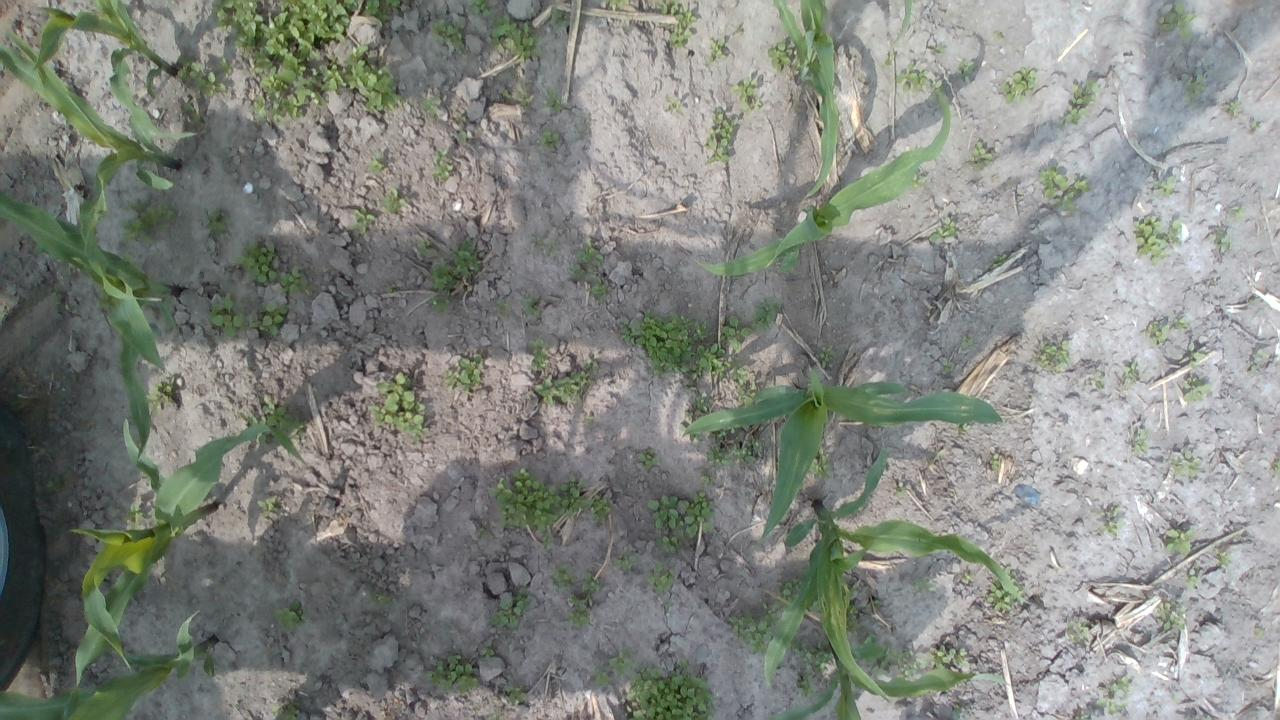Maize: (762, 446, 1019, 690), (72, 424, 303, 690), (682, 364, 1008, 538), (0, 189, 186, 466), (0, 30, 183, 304), (699, 85, 952, 277), (0, 609, 218, 720), (31, 0, 198, 143), (770, 631, 999, 720), (773, 0, 840, 205), (890, 0, 912, 41)
Weeds: (252, 0, 351, 126), (620, 306, 708, 391), (488, 466, 561, 550), (627, 659, 713, 720), (646, 489, 718, 555), (366, 372, 425, 443), (346, 45, 398, 114), (728, 598, 784, 656), (532, 357, 594, 407), (120, 198, 178, 248), (247, 398, 304, 448), (429, 239, 480, 292), (789, 638, 834, 698), (210, 0, 262, 50), (491, 14, 544, 63), (176, 52, 232, 98), (1038, 167, 1090, 213), (708, 425, 760, 468), (422, 654, 480, 691), (1132, 214, 1172, 267), (233, 240, 275, 286), (657, 0, 696, 49), (703, 112, 738, 166), (206, 292, 243, 340), (985, 568, 1024, 610), (248, 302, 290, 340), (491, 592, 529, 632), (440, 352, 482, 388), (999, 66, 1038, 104), (560, 473, 592, 517), (887, 648, 928, 682), (1036, 338, 1072, 376), (894, 63, 930, 98), (721, 314, 752, 354), (1160, 5, 1196, 38), (694, 344, 728, 378), (850, 634, 889, 663), (144, 383, 178, 416), (767, 39, 801, 72), (644, 559, 675, 595), (928, 645, 966, 672), (431, 17, 464, 48), (272, 264, 306, 294), (274, 601, 308, 631), (732, 364, 756, 405), (733, 78, 761, 113), (1157, 601, 1188, 632), (608, 648, 640, 678), (1170, 448, 1200, 480), (584, 267, 608, 306), (752, 304, 784, 332), (1166, 528, 1196, 556), (1100, 505, 1127, 536), (810, 446, 834, 480), (966, 142, 994, 171), (500, 82, 533, 106), (430, 148, 452, 183), (576, 238, 605, 264), (928, 216, 956, 242), (205, 208, 231, 236), (364, 0, 392, 26), (1183, 377, 1210, 403), (527, 337, 548, 370), (158, 297, 178, 331), (1071, 80, 1098, 105), (704, 37, 728, 65), (382, 189, 408, 214), (351, 208, 375, 234), (780, 244, 800, 274), (781, 578, 804, 604), (552, 568, 576, 592), (638, 447, 661, 472), (1184, 75, 1206, 101), (590, 493, 610, 521), (431, 292, 456, 314), (256, 495, 278, 519), (614, 551, 638, 573), (1097, 698, 1126, 716), (272, 703, 302, 720), (122, 502, 144, 525), (1152, 176, 1176, 197), (532, 238, 560, 256), (1210, 228, 1230, 253), (1064, 106, 1089, 126), (1146, 322, 1168, 344), (1068, 621, 1090, 643), (958, 58, 978, 82), (694, 392, 718, 412), (544, 86, 561, 114), (679, 422, 704, 441), (1188, 343, 1206, 369), (522, 294, 542, 317), (818, 344, 836, 369), (548, 6, 570, 26), (542, 128, 562, 150), (418, 95, 442, 113), (1110, 677, 1132, 696), (912, 578, 937, 594), (908, 173, 928, 192), (367, 154, 386, 174), (1250, 350, 1268, 371), (1168, 219, 1183, 244), (470, 0, 492, 17), (567, 611, 590, 627), (50, 283, 64, 309), (182, 102, 200, 122), (1134, 430, 1148, 454), (371, 592, 393, 607), (582, 574, 600, 592), (506, 686, 524, 704), (846, 606, 857, 634), (930, 78, 946, 96), (415, 239, 431, 257), (46, 477, 64, 493), (592, 670, 610, 686), (1124, 361, 1136, 384), (603, 0, 629, 10), (992, 254, 1008, 270), (1224, 100, 1242, 114), (950, 706, 968, 720), (960, 335, 976, 350), (666, 96, 682, 111), (1186, 574, 1201, 590), (1232, 206, 1246, 222), (1218, 551, 1232, 567), (495, 301, 512, 314), (479, 642, 494, 656), (991, 453, 1002, 471), (1177, 318, 1190, 332), (956, 422, 970, 435), (926, 46, 944, 56), (568, 262, 583, 274), (808, 596, 819, 612), (1094, 375, 1106, 389), (991, 30, 1004, 42), (896, 482, 907, 496), (344, 0, 358, 11), (944, 358, 954, 373), (885, 49, 895, 64), (700, 474, 711, 487), (386, 0, 401, 9), (961, 572, 972, 584), (457, 128, 468, 140), (574, 600, 587, 610), (1272, 459, 1280, 474), (1254, 626, 1264, 638), (478, 528, 488, 540), (384, 286, 398, 294), (663, 598, 672, 610), (70, 264, 80, 274), (1078, 714, 1094, 720), (872, 666, 882, 674)
